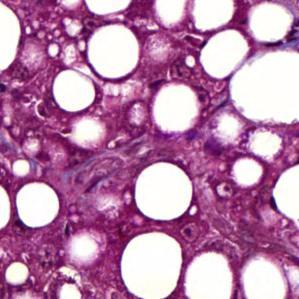steatosis: (131, 162, 199, 224), (81, 25, 146, 77)
